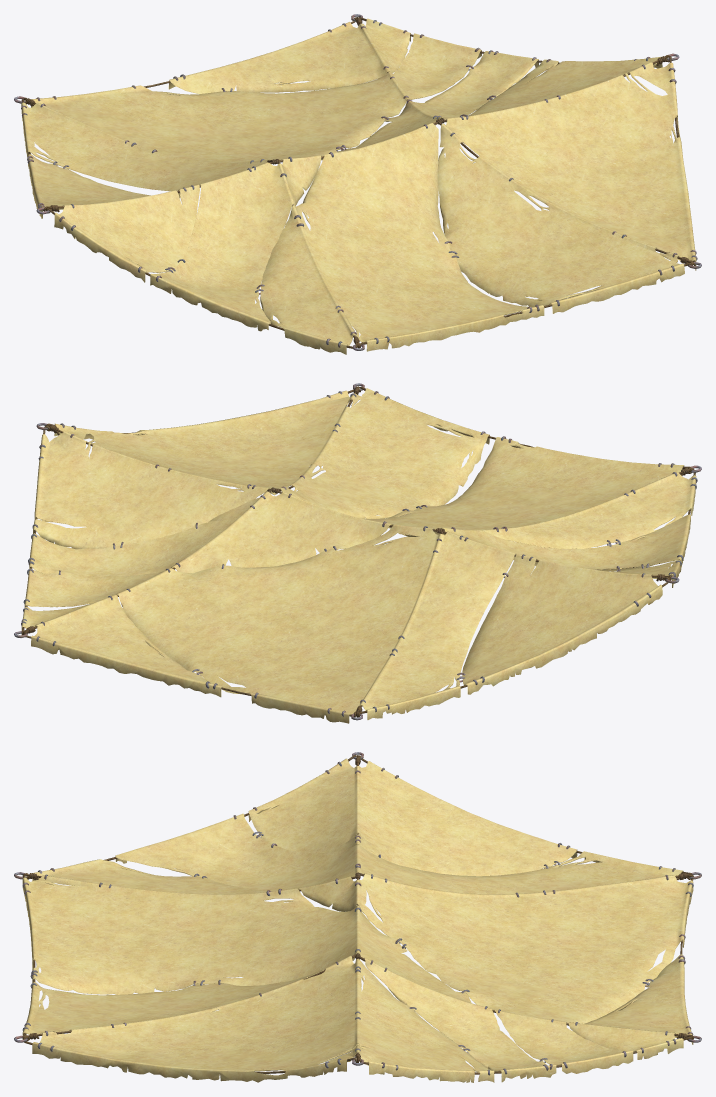
3 views of the same model, one above another, from view 1: azimuth 30°, elevation 25°; view 2: azimuth 150°, elevation 25°; view 3: azimuth 270°, elevation 25° (orthographic).
Parts seen in each view (by area): view 1: SM_Moon_Garou_Overhang_Hexagonal_01v1_LOD0; view 2: SM_Moon_Garou_Overhang_Hexagonal_01v1_LOD0; view 3: SM_Moon_Garou_Overhang_Hexagonal_01v1_LOD0.
Part boxes in pixels (box(x1,y1,x2,y2)): SM_Moon_Garou_Overhang_Hexagonal_01v1_LOD0: box(14, 14, 701, 354); SM_Moon_Garou_Overhang_Hexagonal_01v1_LOD0: box(14, 383, 701, 723); SM_Moon_Garou_Overhang_Hexagonal_01v1_LOD0: box(14, 752, 701, 1082).
Size of the model in its own units: 27.39 by 3.45 by 25.52.
3 materials, 3 textured.
